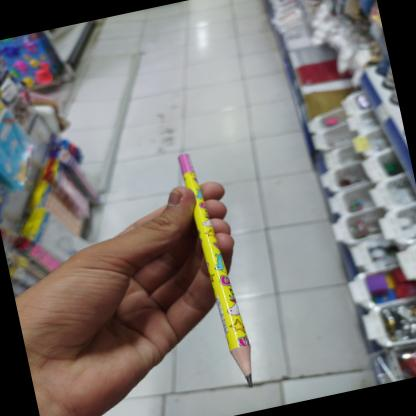pencil: (178, 142, 263, 390)
